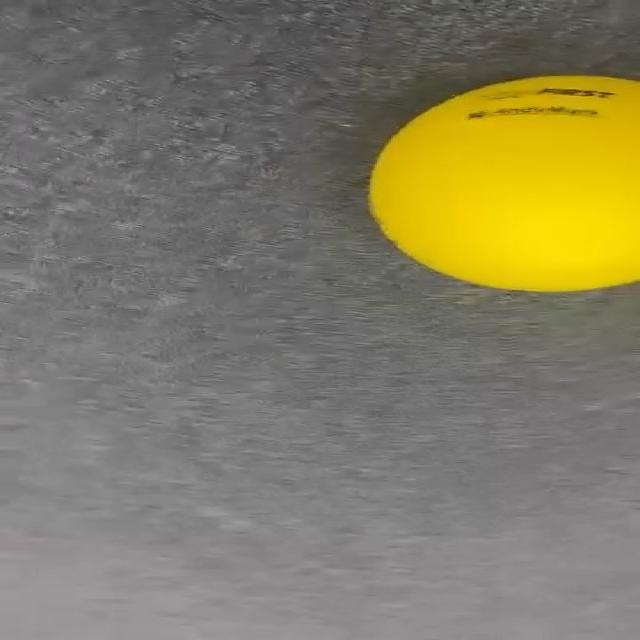Fuels: (360, 71, 640, 293)
